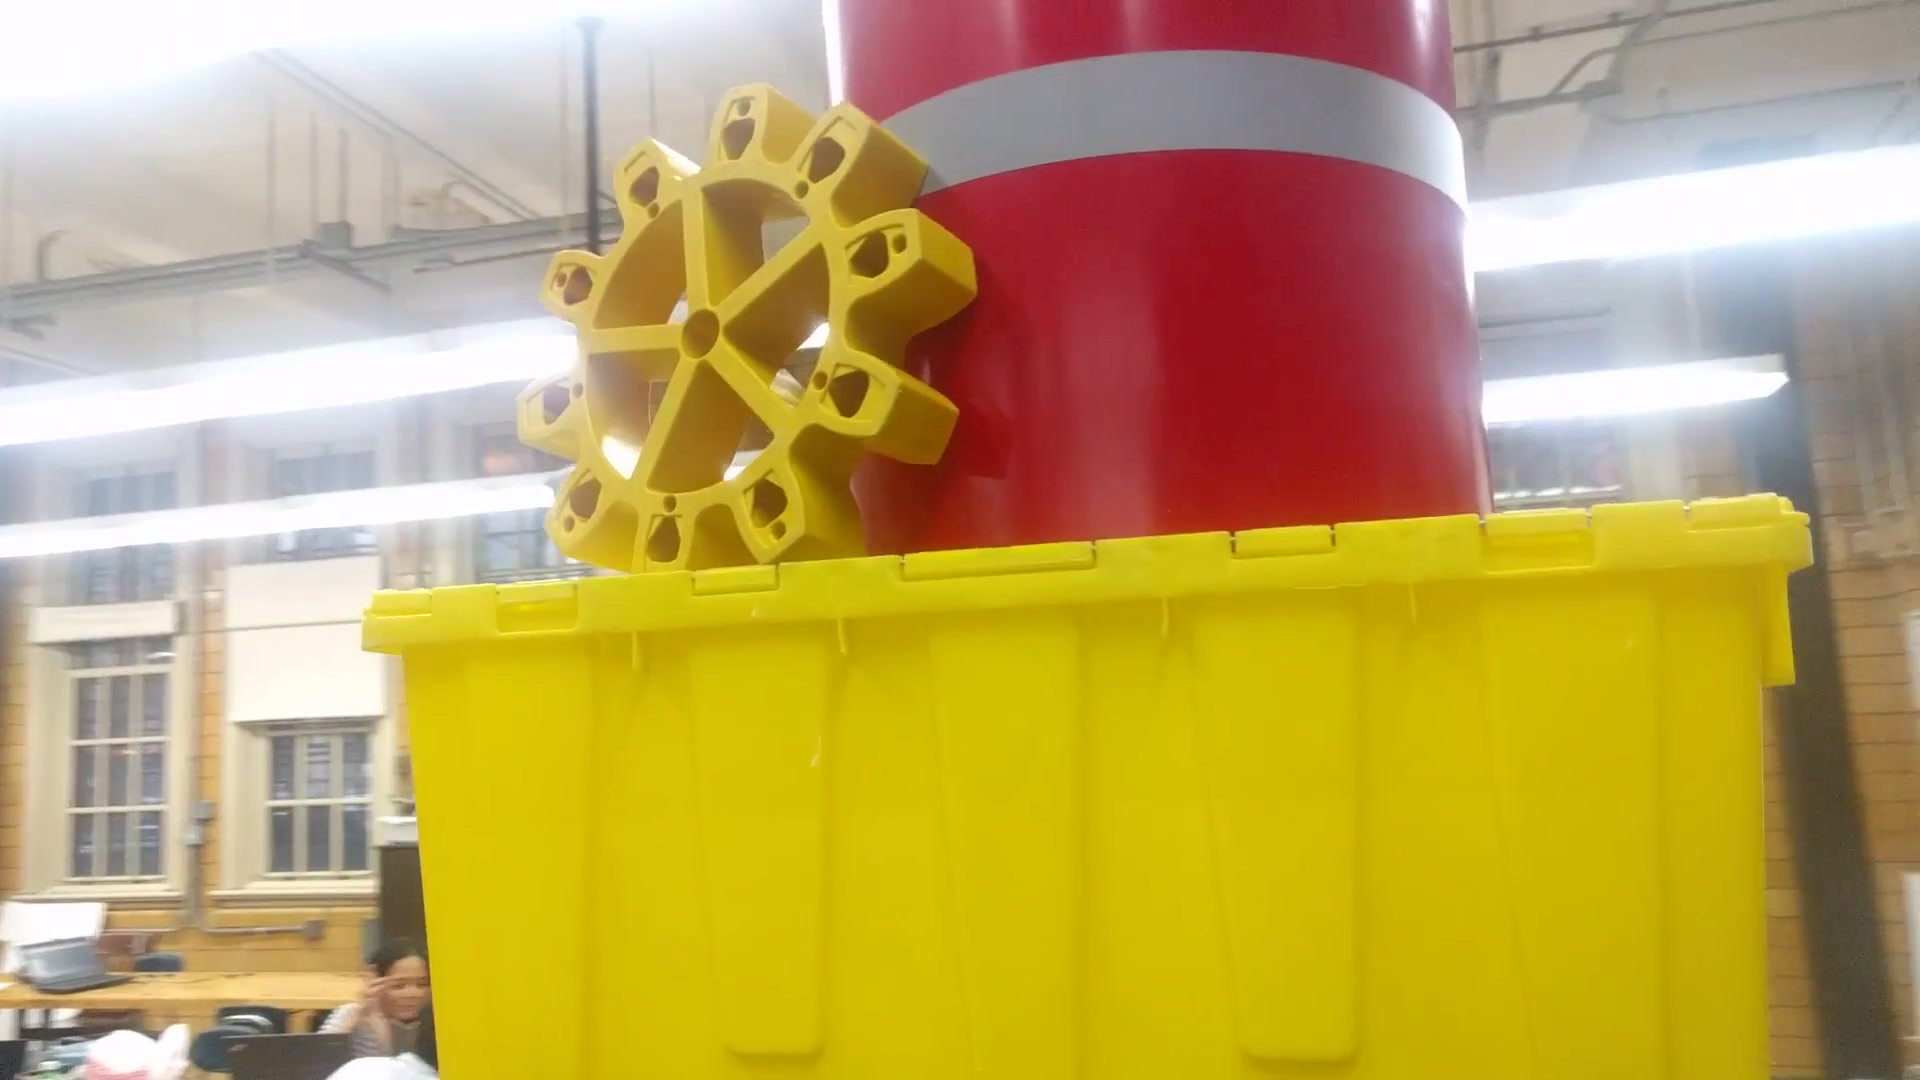gear: (512, 63, 975, 630)
